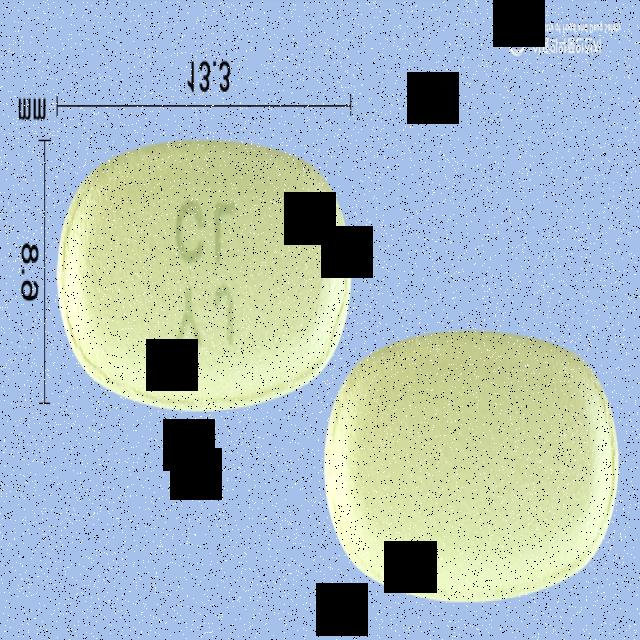Clacid -500mg: (320, 325, 628, 615), (55, 134, 359, 416)
